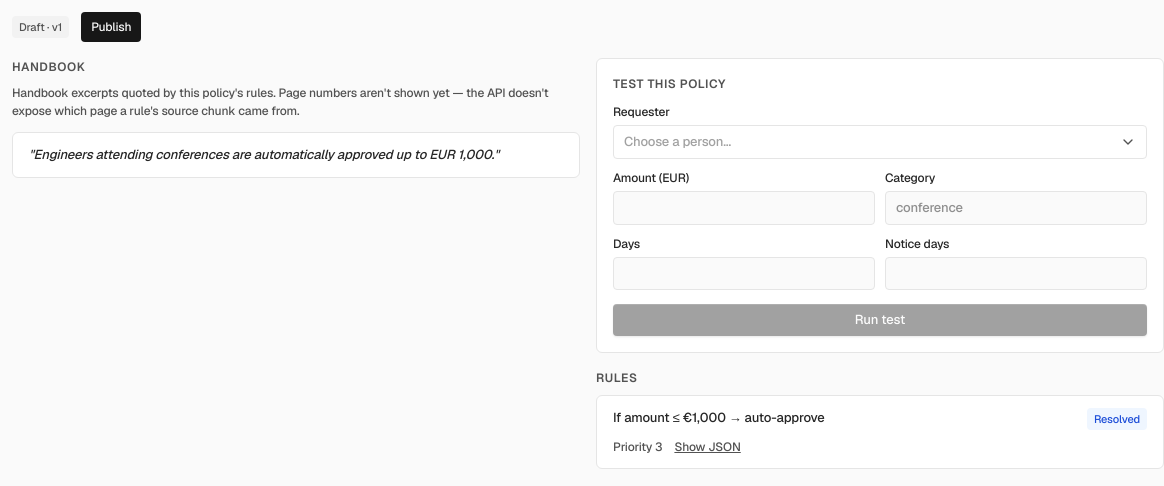
a draft policy › is published once nothing is open, and says it is active as the next version
Click the button "Publish" at (111, 27), box [81,12,141,42]
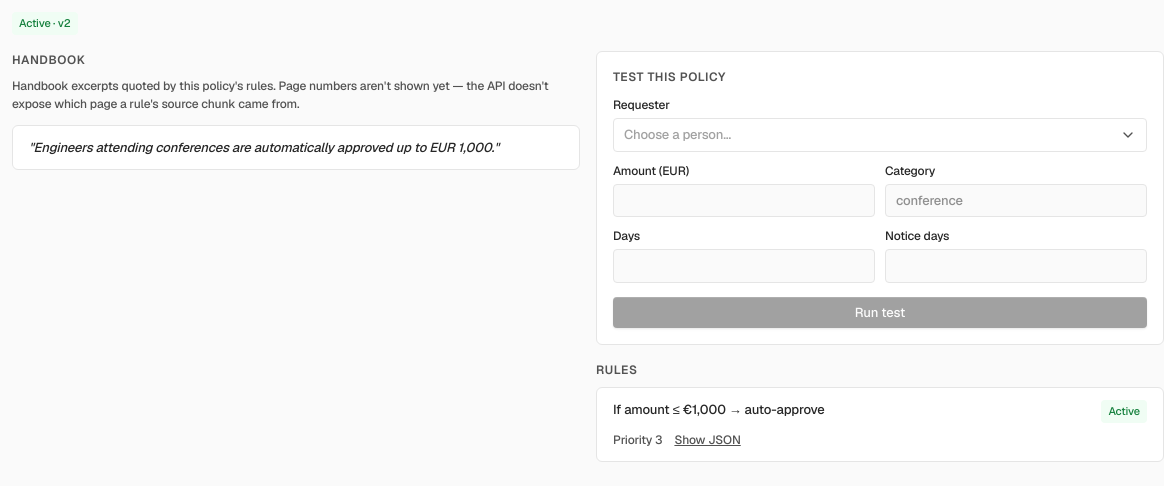
Expected: the text "Active · v2" is shown, [12,12,78,34]
